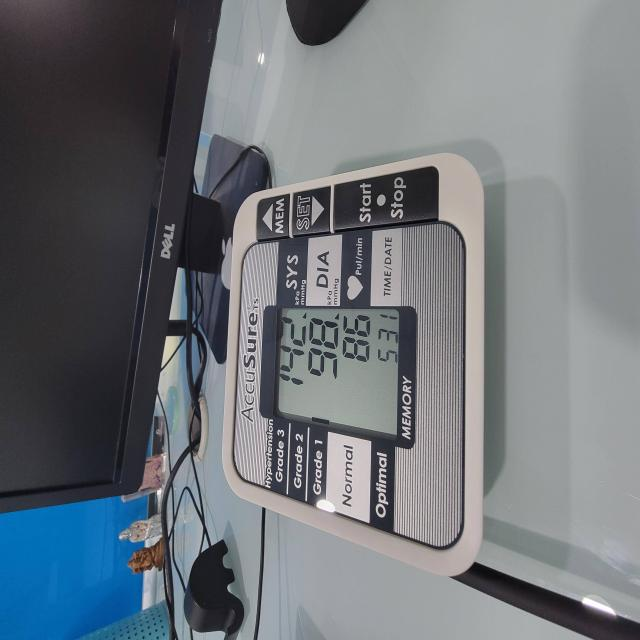bp: (227, 160, 478, 574)
